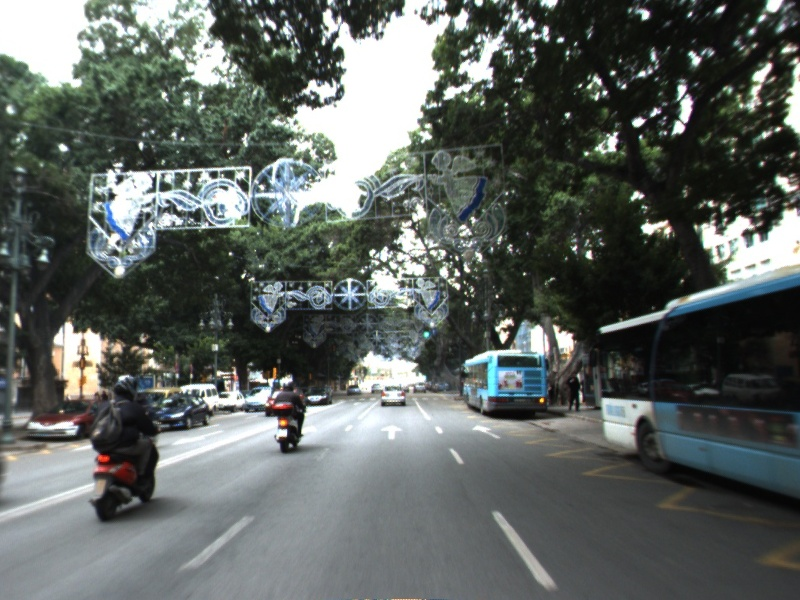STRAIGHT: (470, 422, 504, 441), (378, 423, 405, 441)
